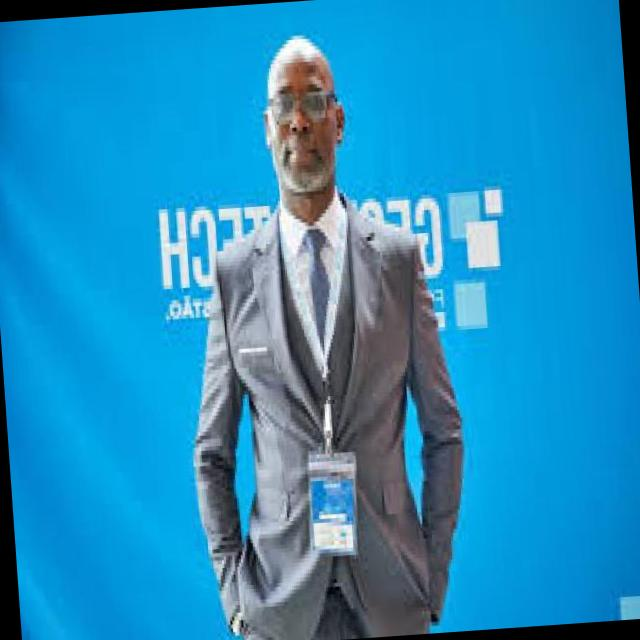id_card: (270, 202, 371, 554)
